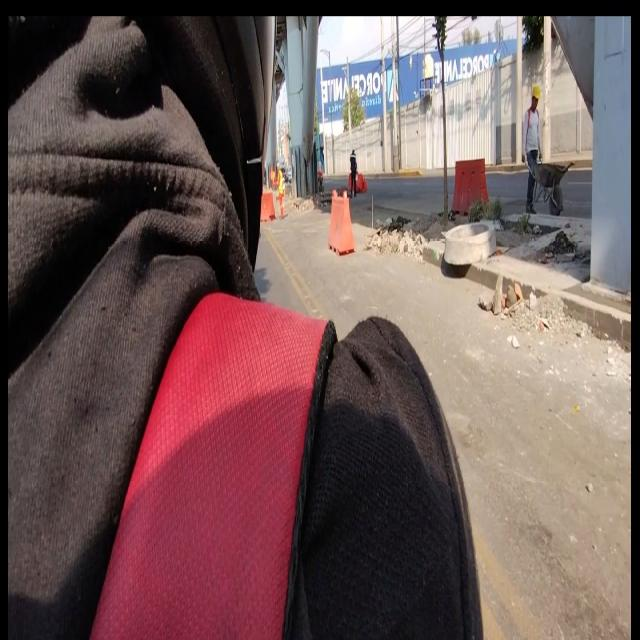adult: (522, 86, 541, 214), (273, 164, 284, 219), (349, 146, 357, 197)
